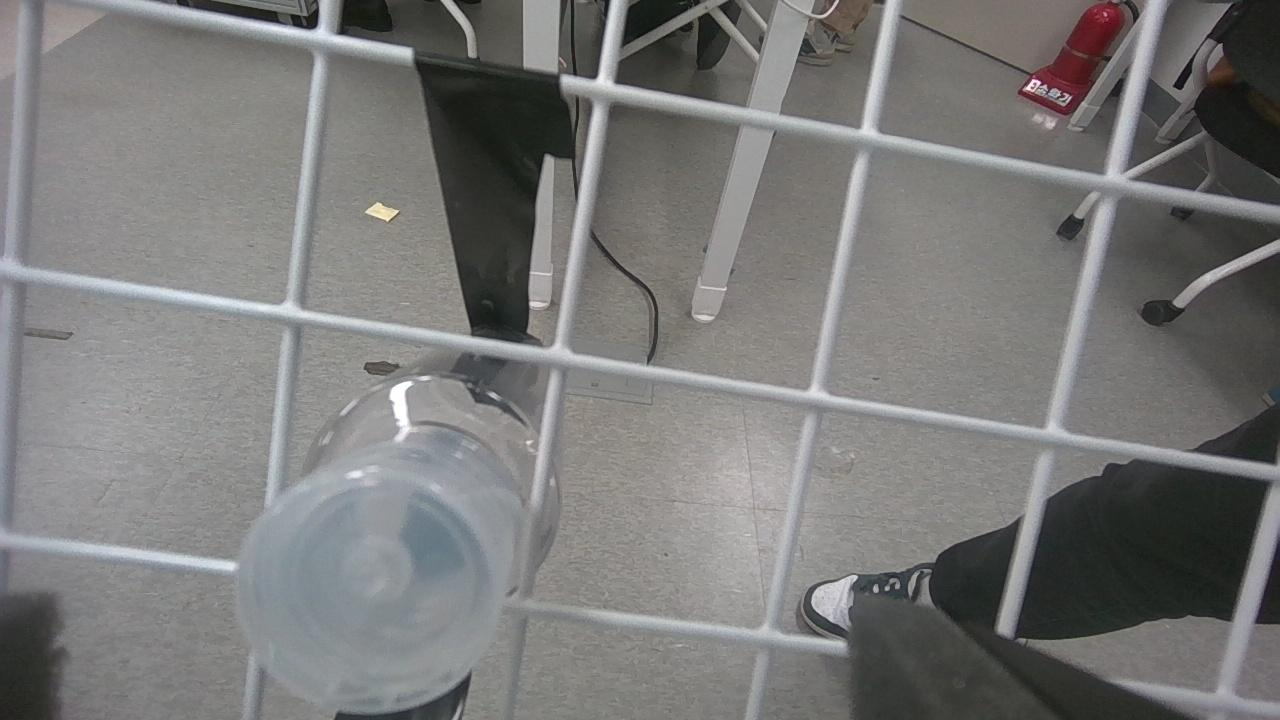Cap: (231, 474, 496, 710)
